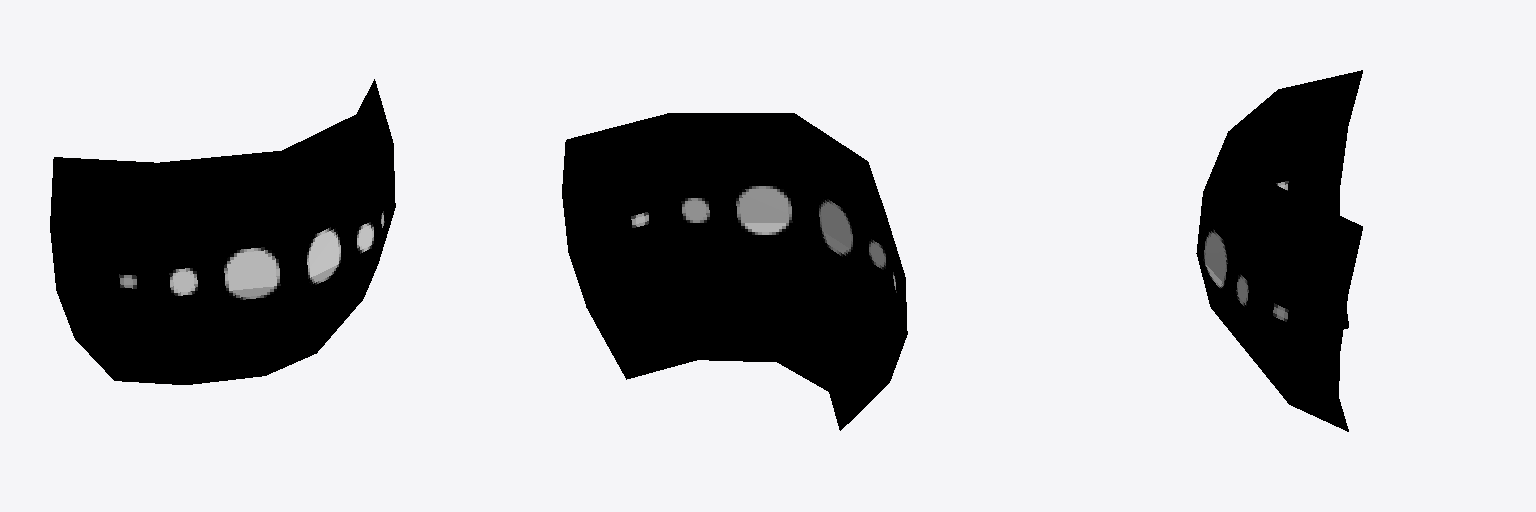
3 renders of one model, left to right at view 1: azimuth 30°, elevation 25°; view 2: azimuth 150°, elevation 25°; view 3: azimuth 270°, elevation 25°, orthographic.
Visible parts, largest first — view 1: polygon0; view 2: polygon0; view 3: polygon0.
Part boxes in pixels (bbox=[...]): polygon0: bbox=[50, 79, 395, 384]; polygon0: bbox=[562, 113, 907, 430]; polygon0: bbox=[1196, 70, 1362, 431].
Size of the model in its own units: 4.04 by 2.79 by 1.7.
1 materials, 1 textured.